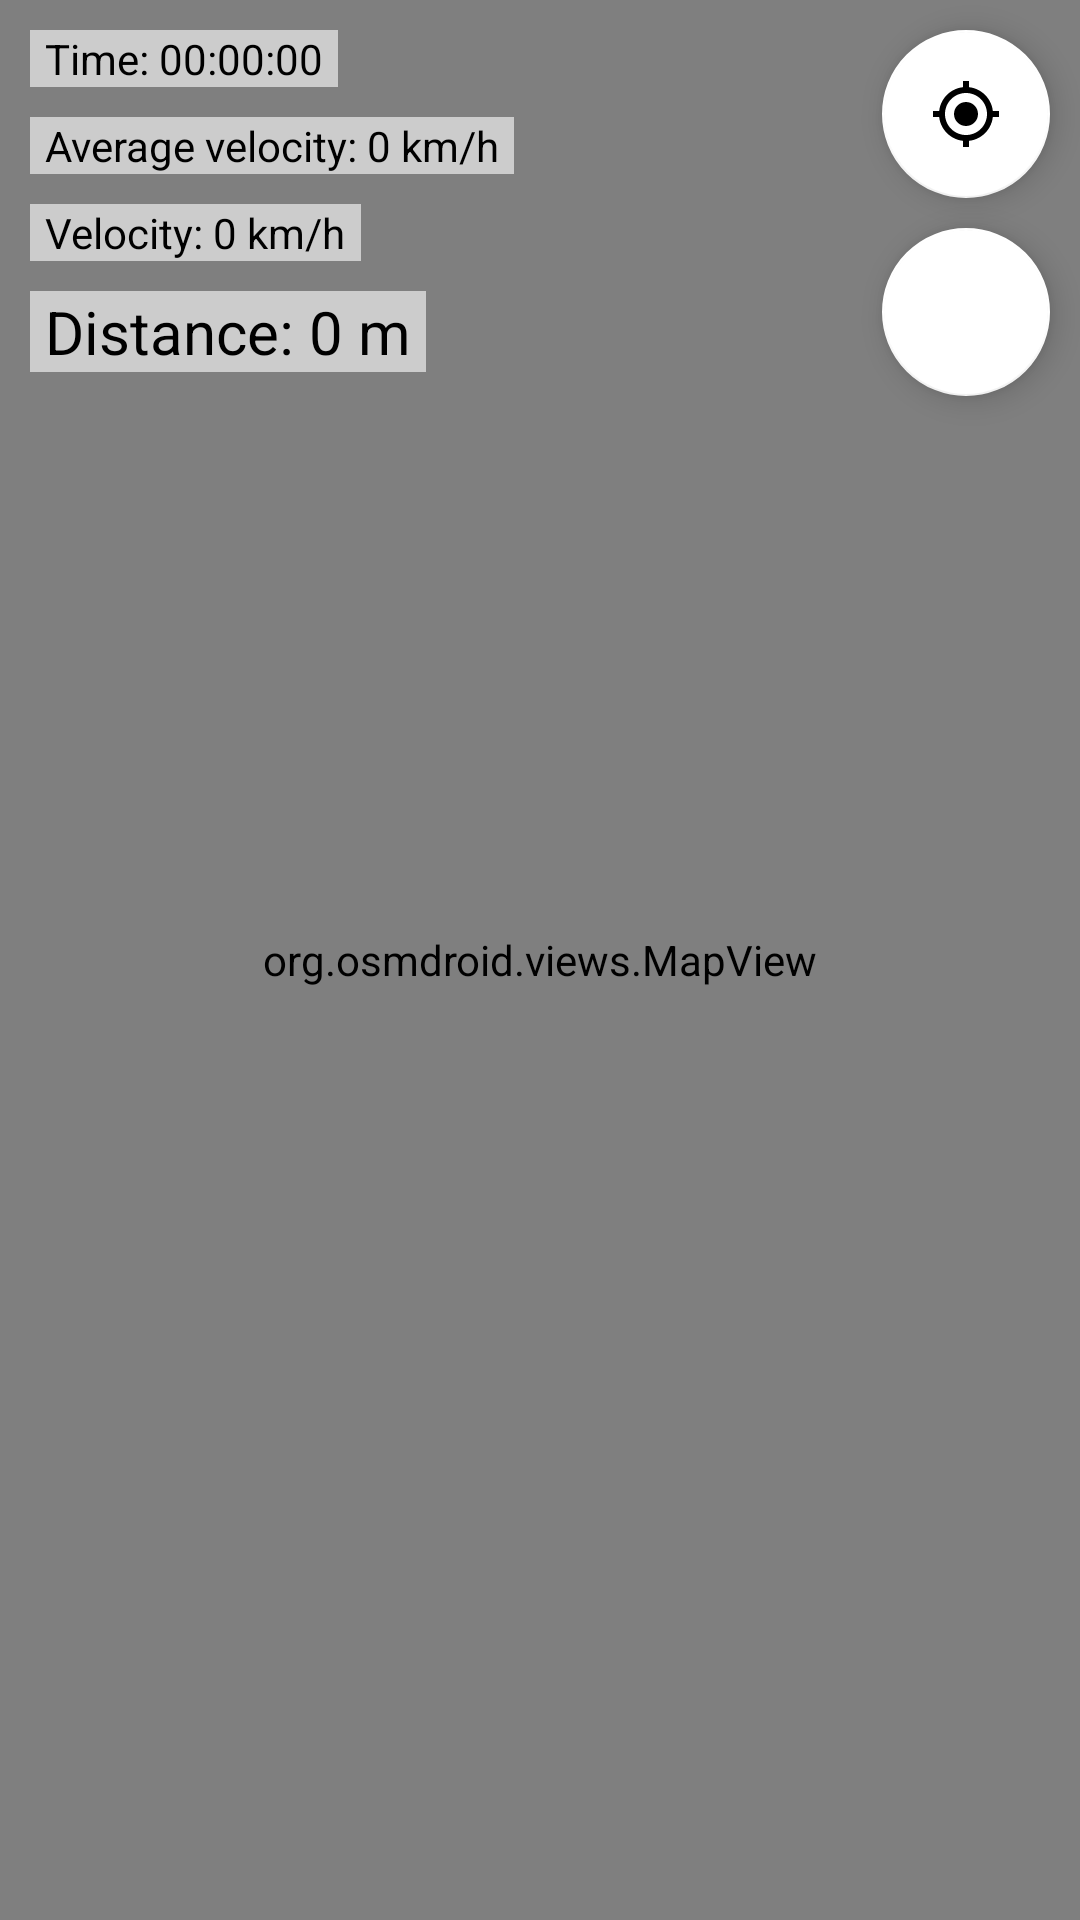

Where icons sit on this 1080w x 1920h app screen, as (x1, y1, x2, y2):
Position: (882, 30, 1050, 198)
